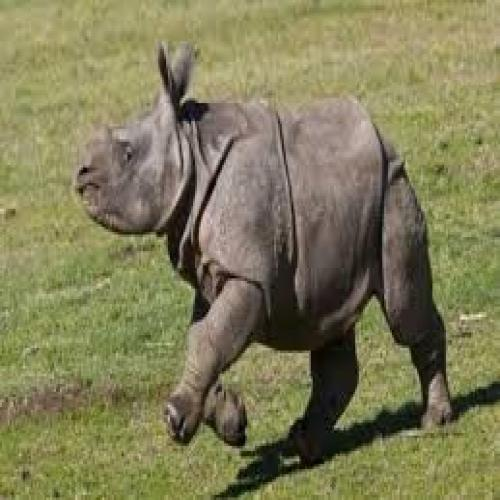rhino-endangered: (72, 58, 453, 440)
